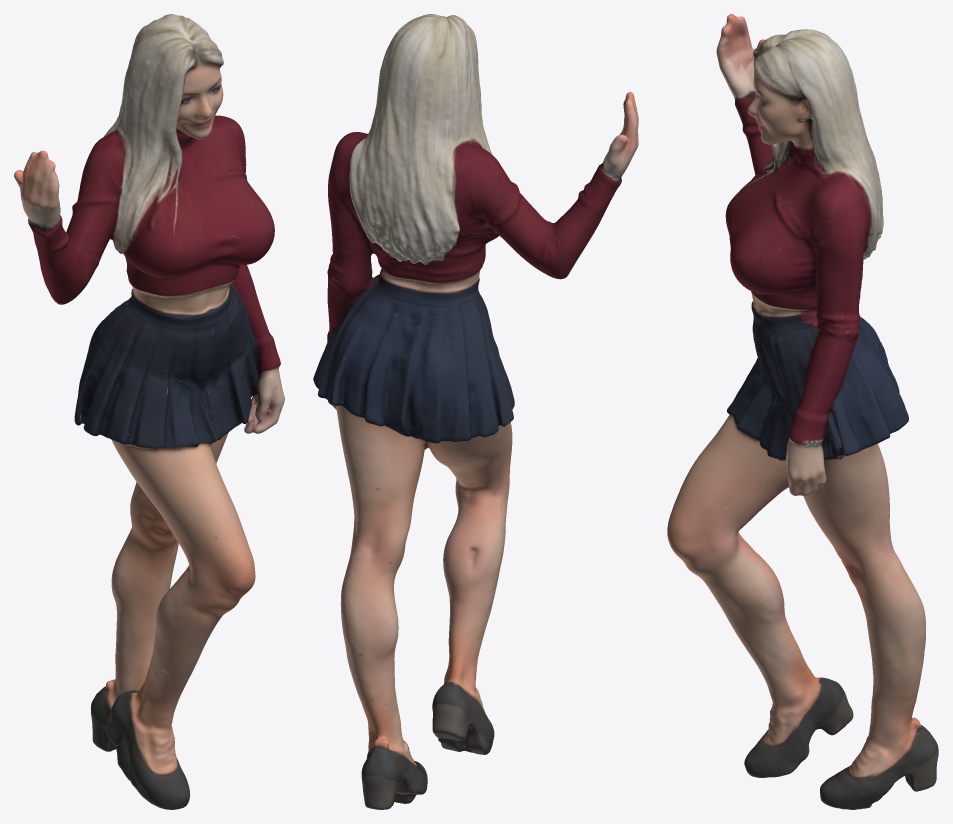
Rendered from Mulher-modelo-branca.glb.
The picture shows the model from 3 angles, left to right: view 1: azimuth 30°, elevation 25°; view 2: azimuth 150°, elevation 25°; view 3: azimuth 270°, elevation 25°; orthographic projection. The views are drawn at different scales.
Parts seen in each view (by area): view 1: Mesh_0; view 2: Mesh_0; view 3: Mesh_0.
Boxes of the visible parts, bbox=[...] form: Mesh_0: bbox=[14, 14, 284, 809]; Mesh_0: bbox=[313, 14, 638, 809]; Mesh_0: bbox=[667, 14, 938, 809].
Bounding box in the file's own units: 0.741 × 1.93 × 0.6149.
1 material, 1 textured.
